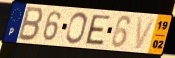6: (110, 14, 133, 50), (42, 10, 62, 43)
B: (16, 6, 45, 43)
E: (84, 14, 112, 47)
O: (64, 11, 88, 45)
V: (134, 16, 157, 51)
